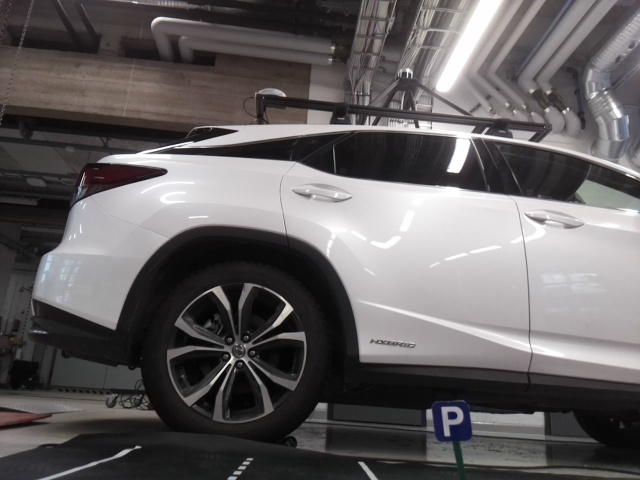Parking: (430, 400, 471, 442)
